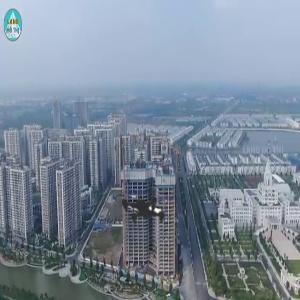drone: (74, 134, 227, 287)
